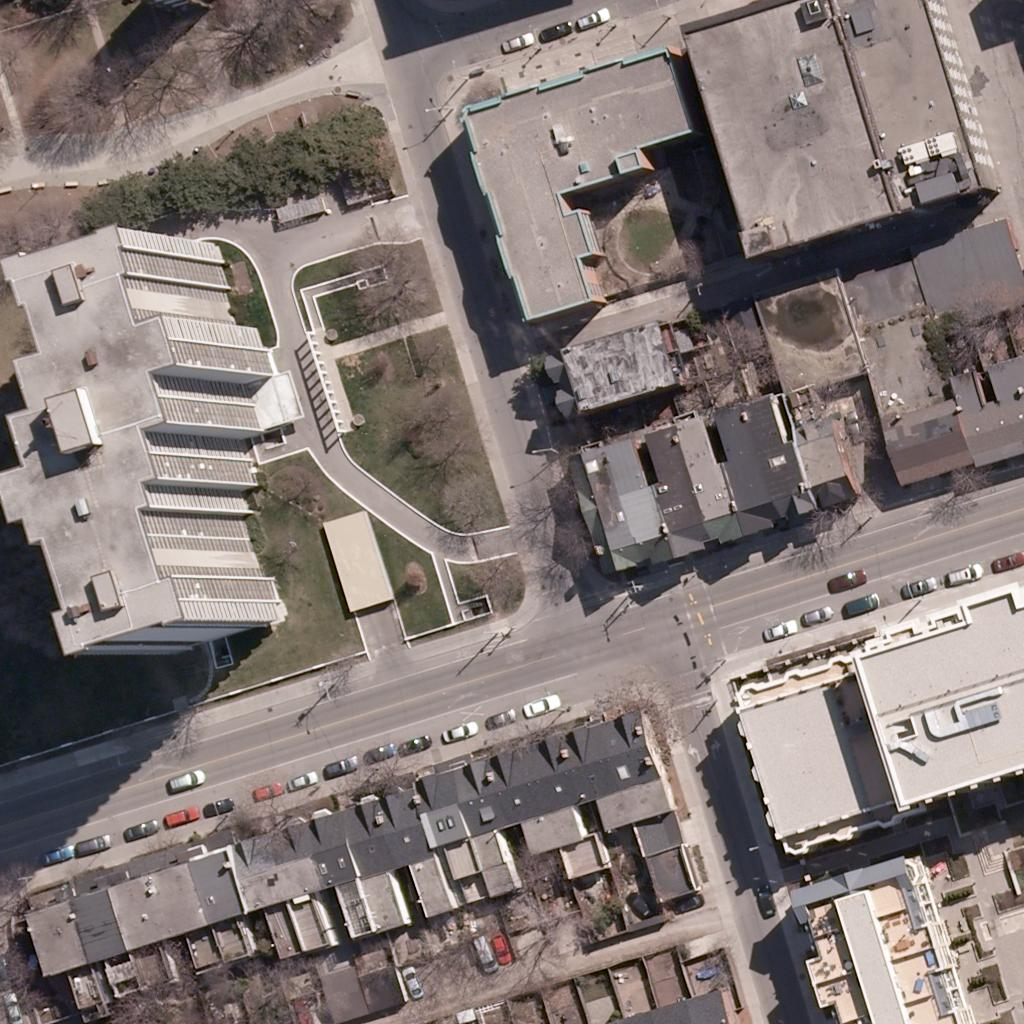car: (567, 2, 601, 36), (534, 13, 568, 47), (496, 26, 530, 60), (836, 409, 870, 443), (990, 544, 1024, 578), (942, 555, 976, 589), (830, 563, 864, 597), (898, 568, 932, 602), (839, 586, 873, 620), (800, 595, 834, 629), (801, 595, 835, 629), (760, 612, 794, 646), (517, 689, 551, 723), (480, 701, 514, 735), (440, 714, 474, 748), (397, 725, 431, 759), (360, 733, 394, 767), (321, 750, 355, 784), (284, 762, 318, 796), (164, 763, 198, 797), (250, 774, 284, 808), (201, 789, 235, 823), (162, 798, 196, 832), (162, 800, 196, 834), (119, 812, 153, 846), (73, 829, 107, 863), (36, 835, 70, 869), (748, 883, 782, 917), (621, 887, 655, 921), (666, 887, 700, 921), (482, 925, 516, 959), (465, 937, 499, 971), (397, 965, 431, 999), (283, 996, 317, 1024), (0, 994, 29, 1024), (0, 956, 17, 990)
